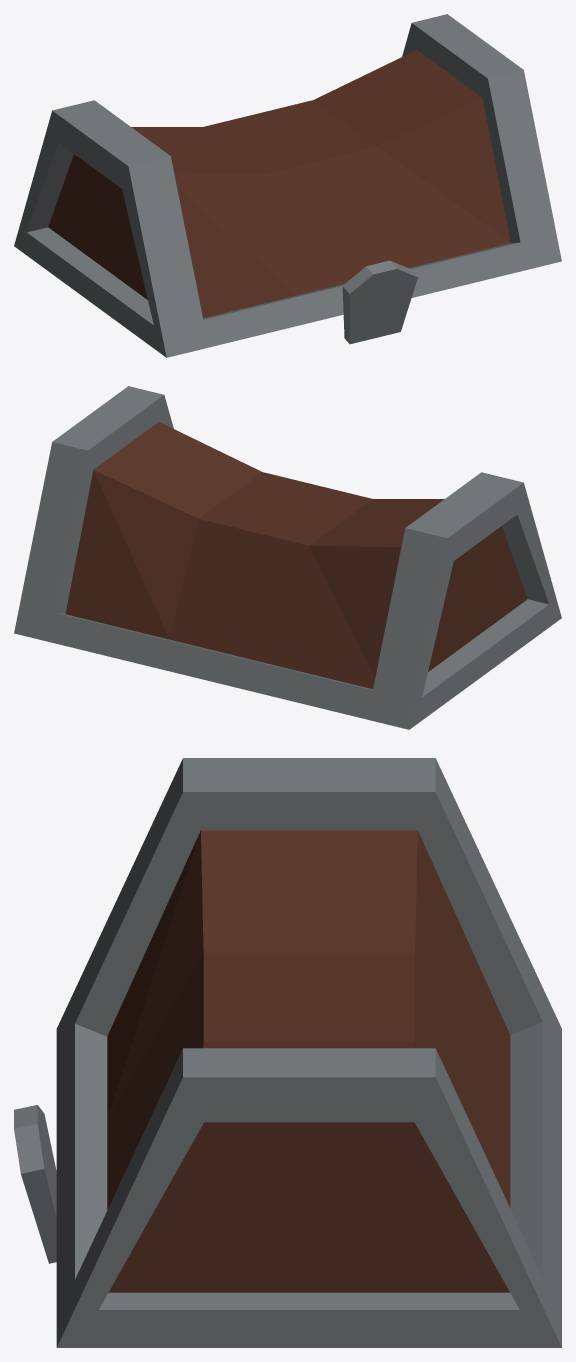
File: simple_chest_up.fbx
The picture shows the model from 3 angles, top to bottom: view 1: azimuth 30°, elevation 25°; view 2: azimuth 150°, elevation 25°; view 3: azimuth 270°, elevation 25°; orthographic projection. The views are drawn at different scales.
Visible parts, largest first — view 1: simple_chest_up; view 2: simple_chest_up; view 3: simple_chest_up.
Boxes of the visible parts, box(x1,y1,x2,y2) form: simple_chest_up: box(14, 14, 561, 357); simple_chest_up: box(14, 386, 561, 729); simple_chest_up: box(14, 758, 561, 1347).
Size of the model in its own units: 7.99 by 3.72 by 5.8.
